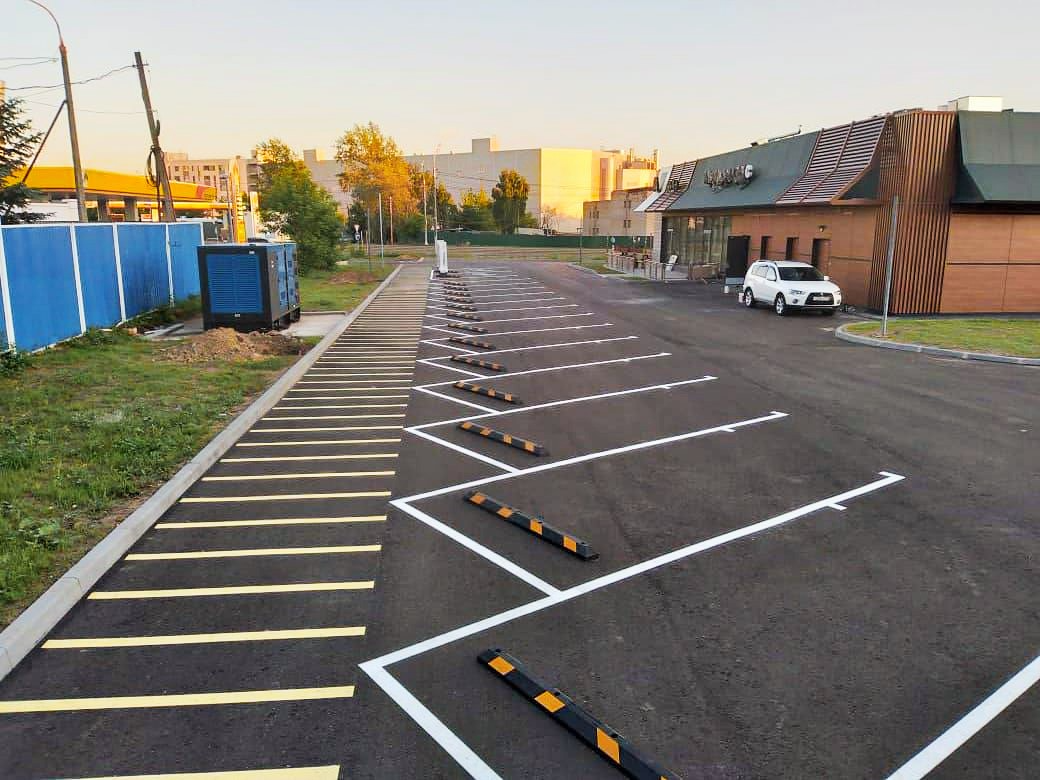Car: (742, 260, 841, 316)
